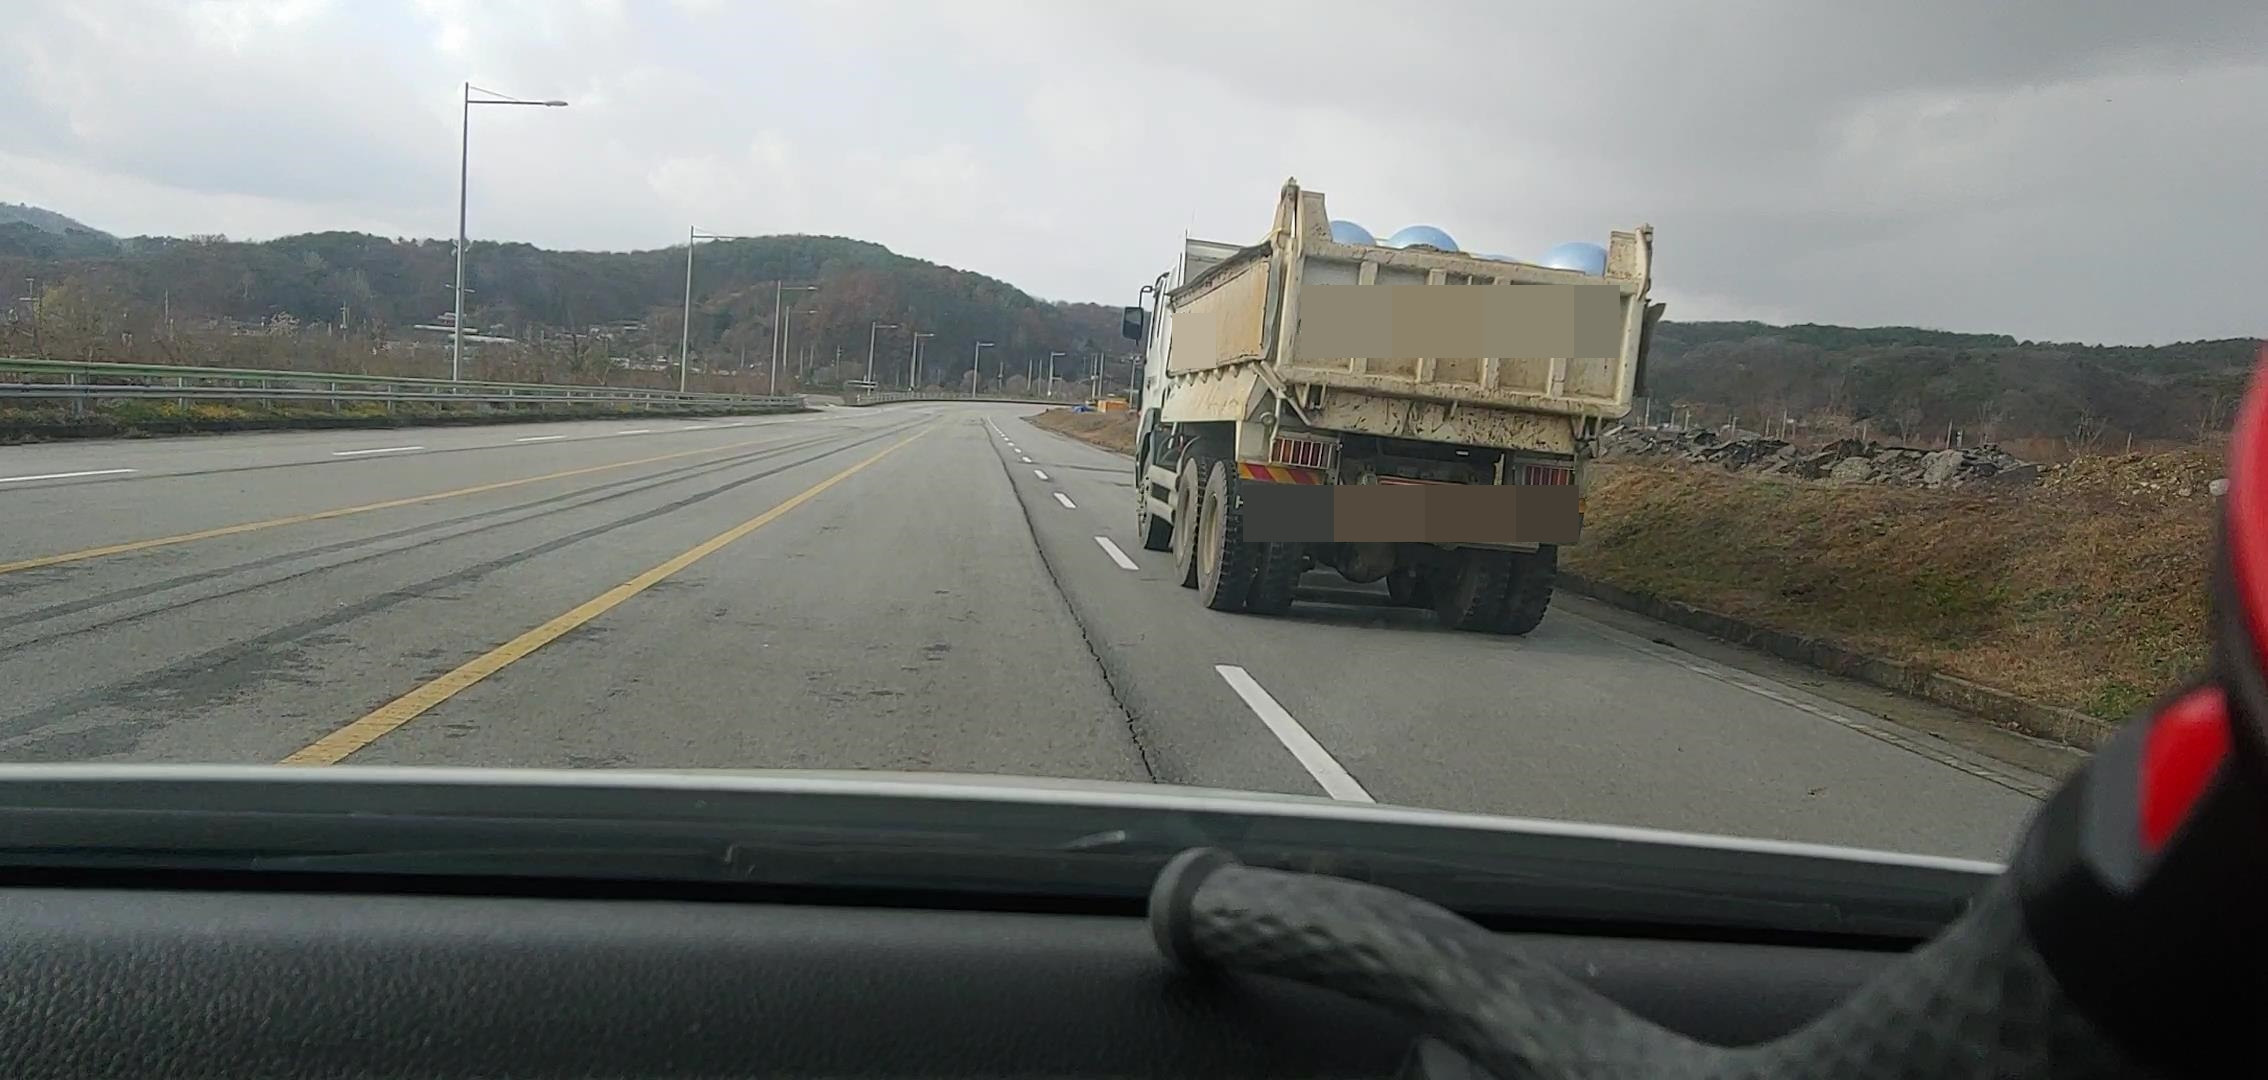불법차량: (1121, 176, 1668, 638)
